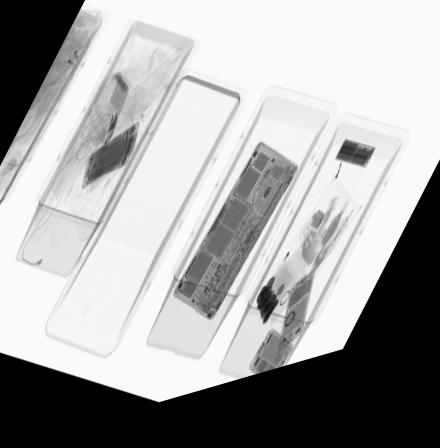Powerbank: (333, 157, 376, 186)
